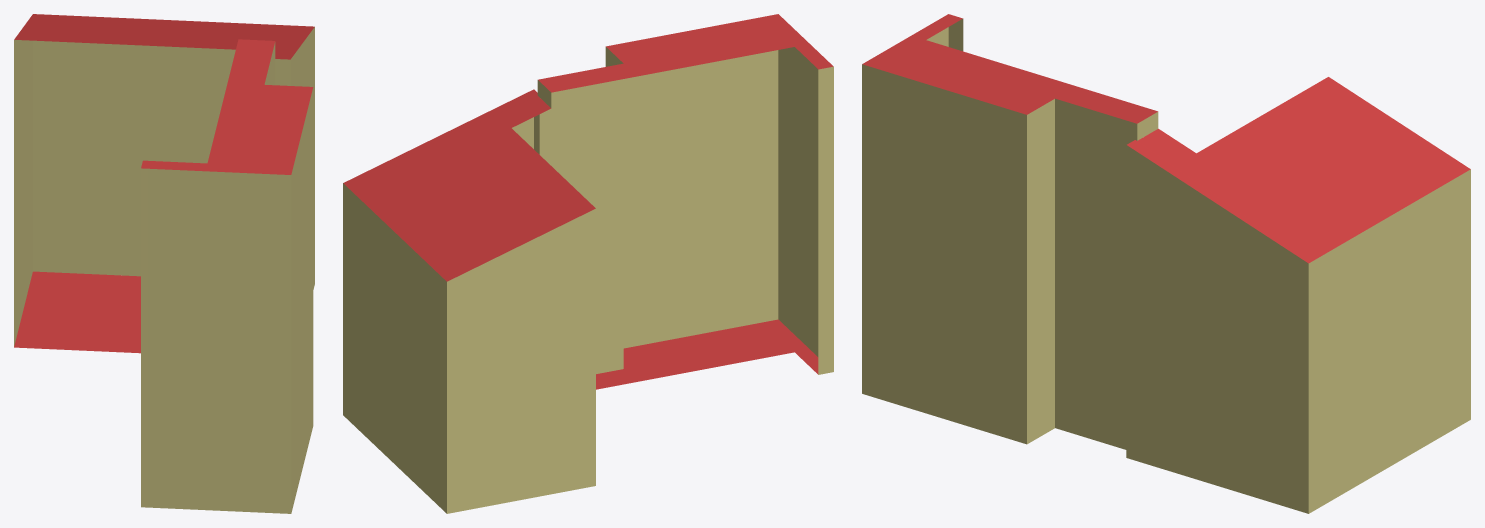
3 views of the same model, side by side, from view 1: azimuth 30°, elevation 25°; view 2: azimuth 150°, elevation 25°; view 3: azimuth 270°, elevation 25° (orthographic). The views are drawn at different scales.
Parts seen in each view (by area): view 1: group_7, group_4, group_6, group_5, group_3; view 2: group_7, group_4, group_3, group_6, group_8; view 3: group_4, group_7, group_3, group_6.
Boxes of the visible parts, x1,y1,x2,y2 form: group_7: [141, 42, 313, 513]; group_4: [14, 27, 314, 346]; group_6: [141, 39, 313, 174]; group_5: [14, 271, 140, 353]; group_3: [14, 14, 314, 59]; group_7: [537, 47, 833, 374]; group_4: [343, 114, 595, 513]; group_3: [343, 89, 595, 281]; group_6: [538, 14, 833, 92]; group_8: [596, 319, 818, 389]; group_4: [1126, 145, 1470, 513]; group_7: [862, 19, 1158, 449]; group_3: [1127, 77, 1470, 263]; group_6: [862, 14, 1157, 123].
Bounding box in the file's own units: 8.68 × 13.1 × 7.82.
